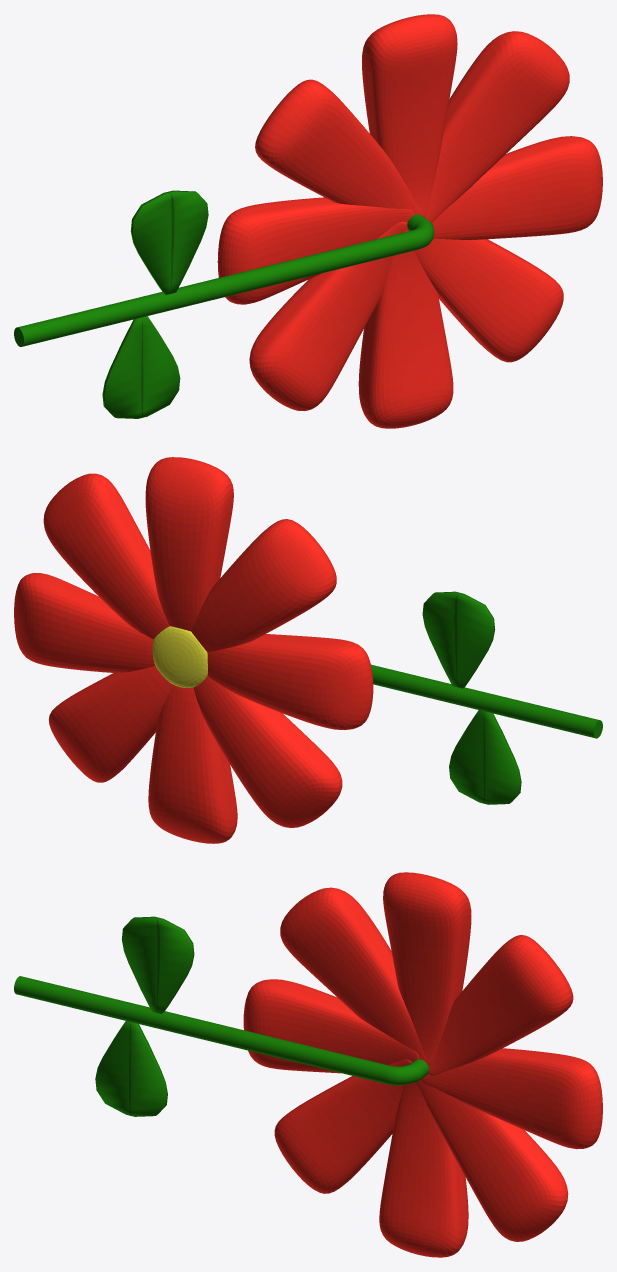
Rendered from Flor.fbx.
3 views of the same model, one above another, from view 1: azimuth 30°, elevation 25°; view 2: azimuth 150°, elevation 25°; view 3: azimuth 330°, elevation 25° (orthographic). The views are drawn at different scales.
Visible parts, largest first — view 1: Cylinder; view 2: Cylinder; view 3: Cylinder.
Boxes of the visible parts, x1=… form: Cylinder: x1=14, y1=14, x2=602, y2=428; Cylinder: x1=14, y1=457, x2=602, y2=843; Cylinder: x1=14, y1=872, x2=602, y2=1257.
Bounding box in the file's own units: 65.43 × 42.06 × 8.48.
1 material, 1 textured.
